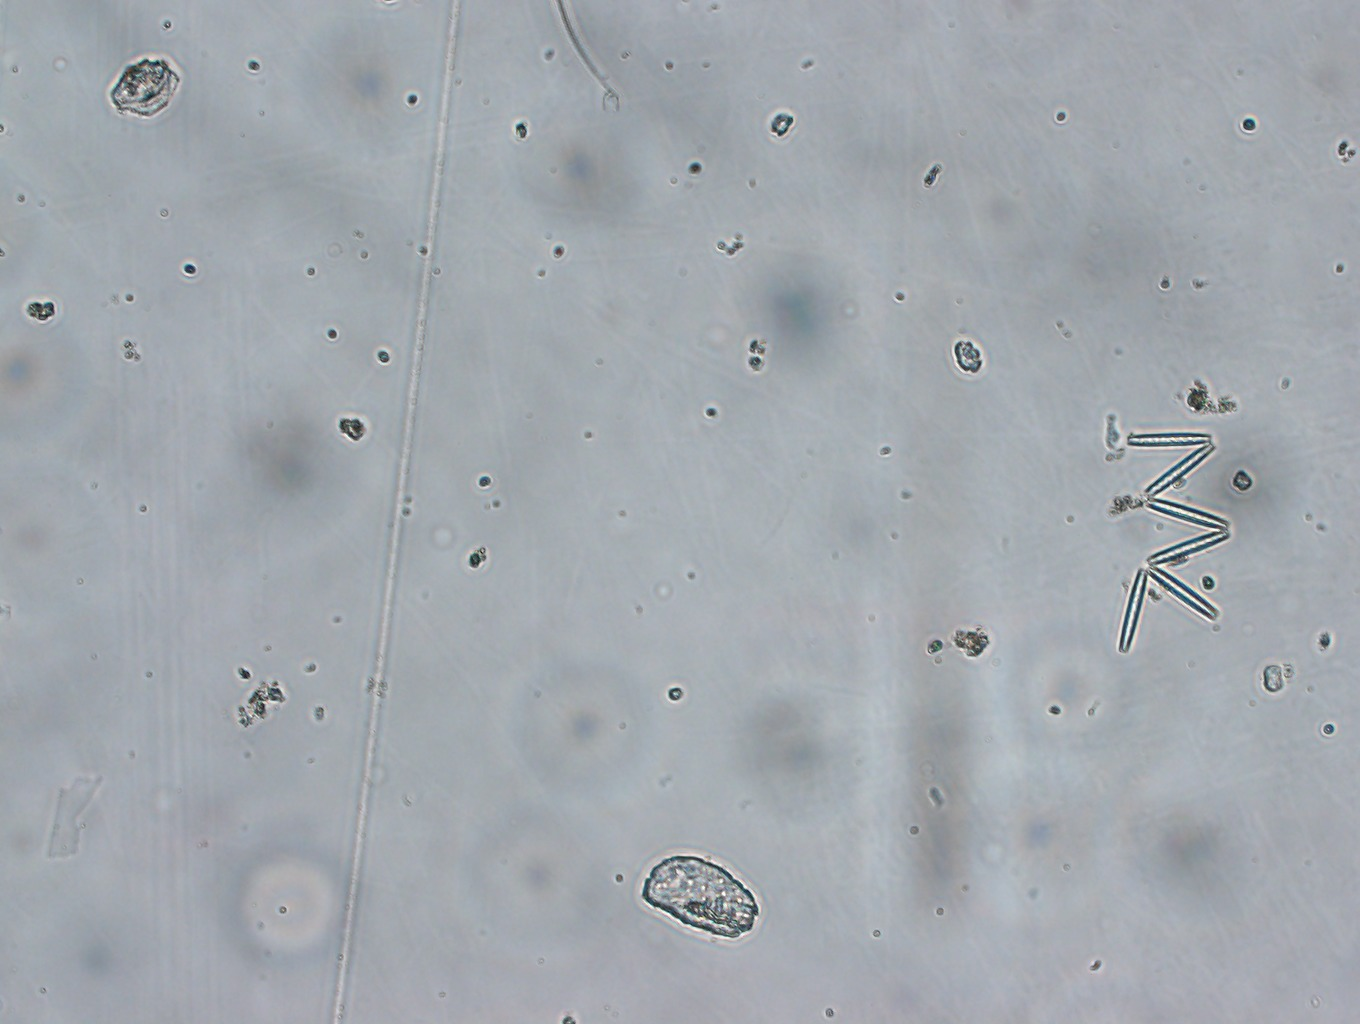thalassionema nitzschioides: (1112, 429, 1235, 658)
